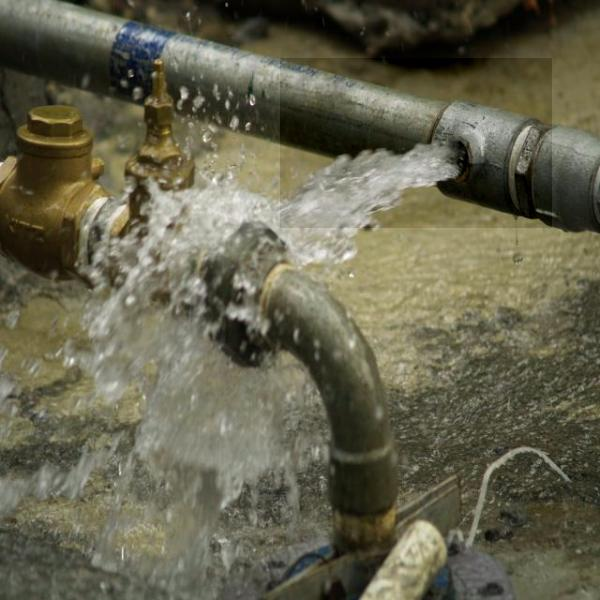water: (280, 58, 552, 228)
